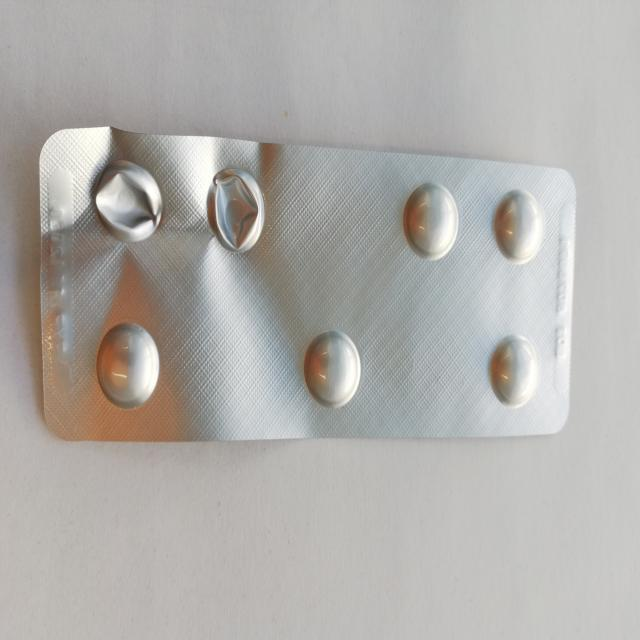Empty: (85, 150, 171, 254), (200, 163, 278, 259)
Pill: (89, 315, 165, 413), (297, 320, 368, 415), (396, 174, 465, 267), (482, 326, 542, 409), (489, 180, 543, 268)
